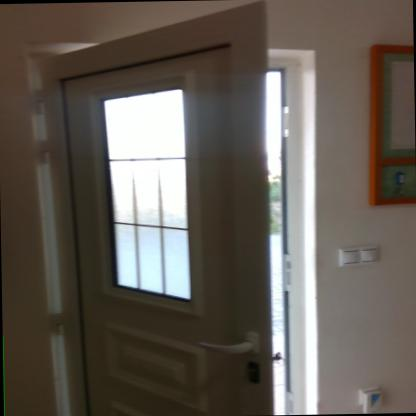semi: (16, 20, 316, 415)
